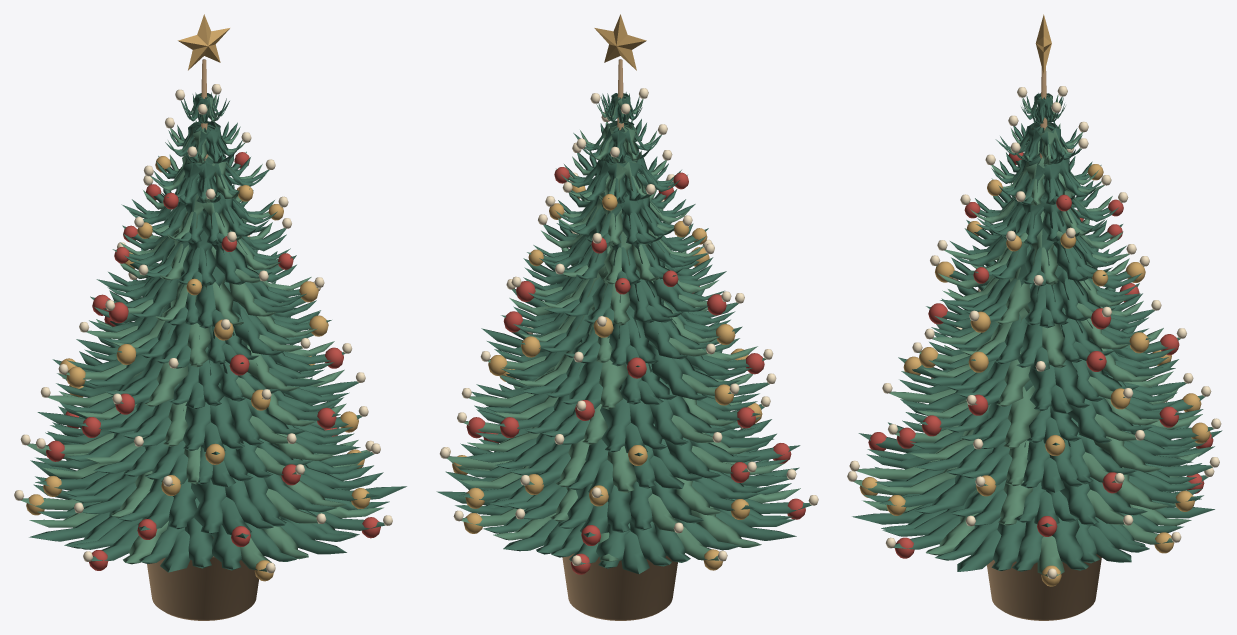
Rendered from christmas_tree.glb.
The picture shows the model from 3 angles, left to right: view 1: azimuth 30°, elevation 25°; view 2: azimuth 150°, elevation 25°; view 3: azimuth 270°, elevation 25°; orthographic projection.
Parts seen in each view (by area): view 1: christmas_tree__fir_shadow, christmas_tree__fir_tips, christmas_tree__accent, christmas_tree__body, christmas_tree__cranberry, christmas_tree__bulb0, christmas_tree__bulb1, christmas_tree__bulb3, christmas_tree__bulb2; view 2: christmas_tree__fir_shadow, christmas_tree__fir_tips, christmas_tree__accent, christmas_tree__body, christmas_tree__cranberry, christmas_tree__bulb0, christmas_tree__bulb1, christmas_tree__bulb3, christmas_tree__bulb2; view 3: christmas_tree__fir_shadow, christmas_tree__fir_tips, christmas_tree__accent, christmas_tree__cranberry, christmas_tree__body, christmas_tree__bulb0, christmas_tree__bulb1, christmas_tree__bulb2, christmas_tree__bulb3.
Part boxes in pixels (x1,y1,x2,y2): christmas_tree__fir_shadow: [29, 92, 406, 572]; christmas_tree__fir_tips: [21, 93, 383, 571]; christmas_tree__accent: [26, 14, 370, 581]; christmas_tree__body: [147, 59, 258, 620]; christmas_tree__cranberry: [46, 152, 380, 570]; christmas_tree__bulb0: [14, 89, 374, 500]; christmas_tree__bulb1: [40, 84, 392, 525]; christmas_tree__bulb3: [36, 104, 352, 561]; christmas_tree__bulb2: [20, 217, 326, 573]; christmas_tree__fir_shadow: [436, 92, 811, 573]; christmas_tree__fir_tips: [446, 93, 800, 561]; christmas_tree__accent: [452, 14, 762, 570]; christmas_tree__body: [562, 59, 677, 620]; christmas_tree__cranberry: [466, 167, 805, 574]; christmas_tree__bulb0: [439, 103, 776, 561]; christmas_tree__bulb1: [506, 93, 796, 565]; christmas_tree__bulb3: [457, 88, 818, 519]; christmas_tree__bulb2: [453, 138, 770, 533]; christmas_tree__fir_shadow: [852, 93, 1222, 571]; christmas_tree__fir_tips: [853, 93, 1202, 576]; christmas_tree__accent: [859, 14, 1210, 586]; christmas_tree__cranberry: [868, 152, 1213, 558]; christmas_tree__body: [987, 67, 1101, 620]; christmas_tree__bulb0: [912, 86, 1211, 578]; christmas_tree__bulb1: [885, 102, 1214, 548]; christmas_tree__bulb2: [847, 138, 1221, 542]; christmas_tree__bulb3: [882, 87, 1219, 483].
Size of the model in its own units: 1.31 by 2.08 by 1.21.
